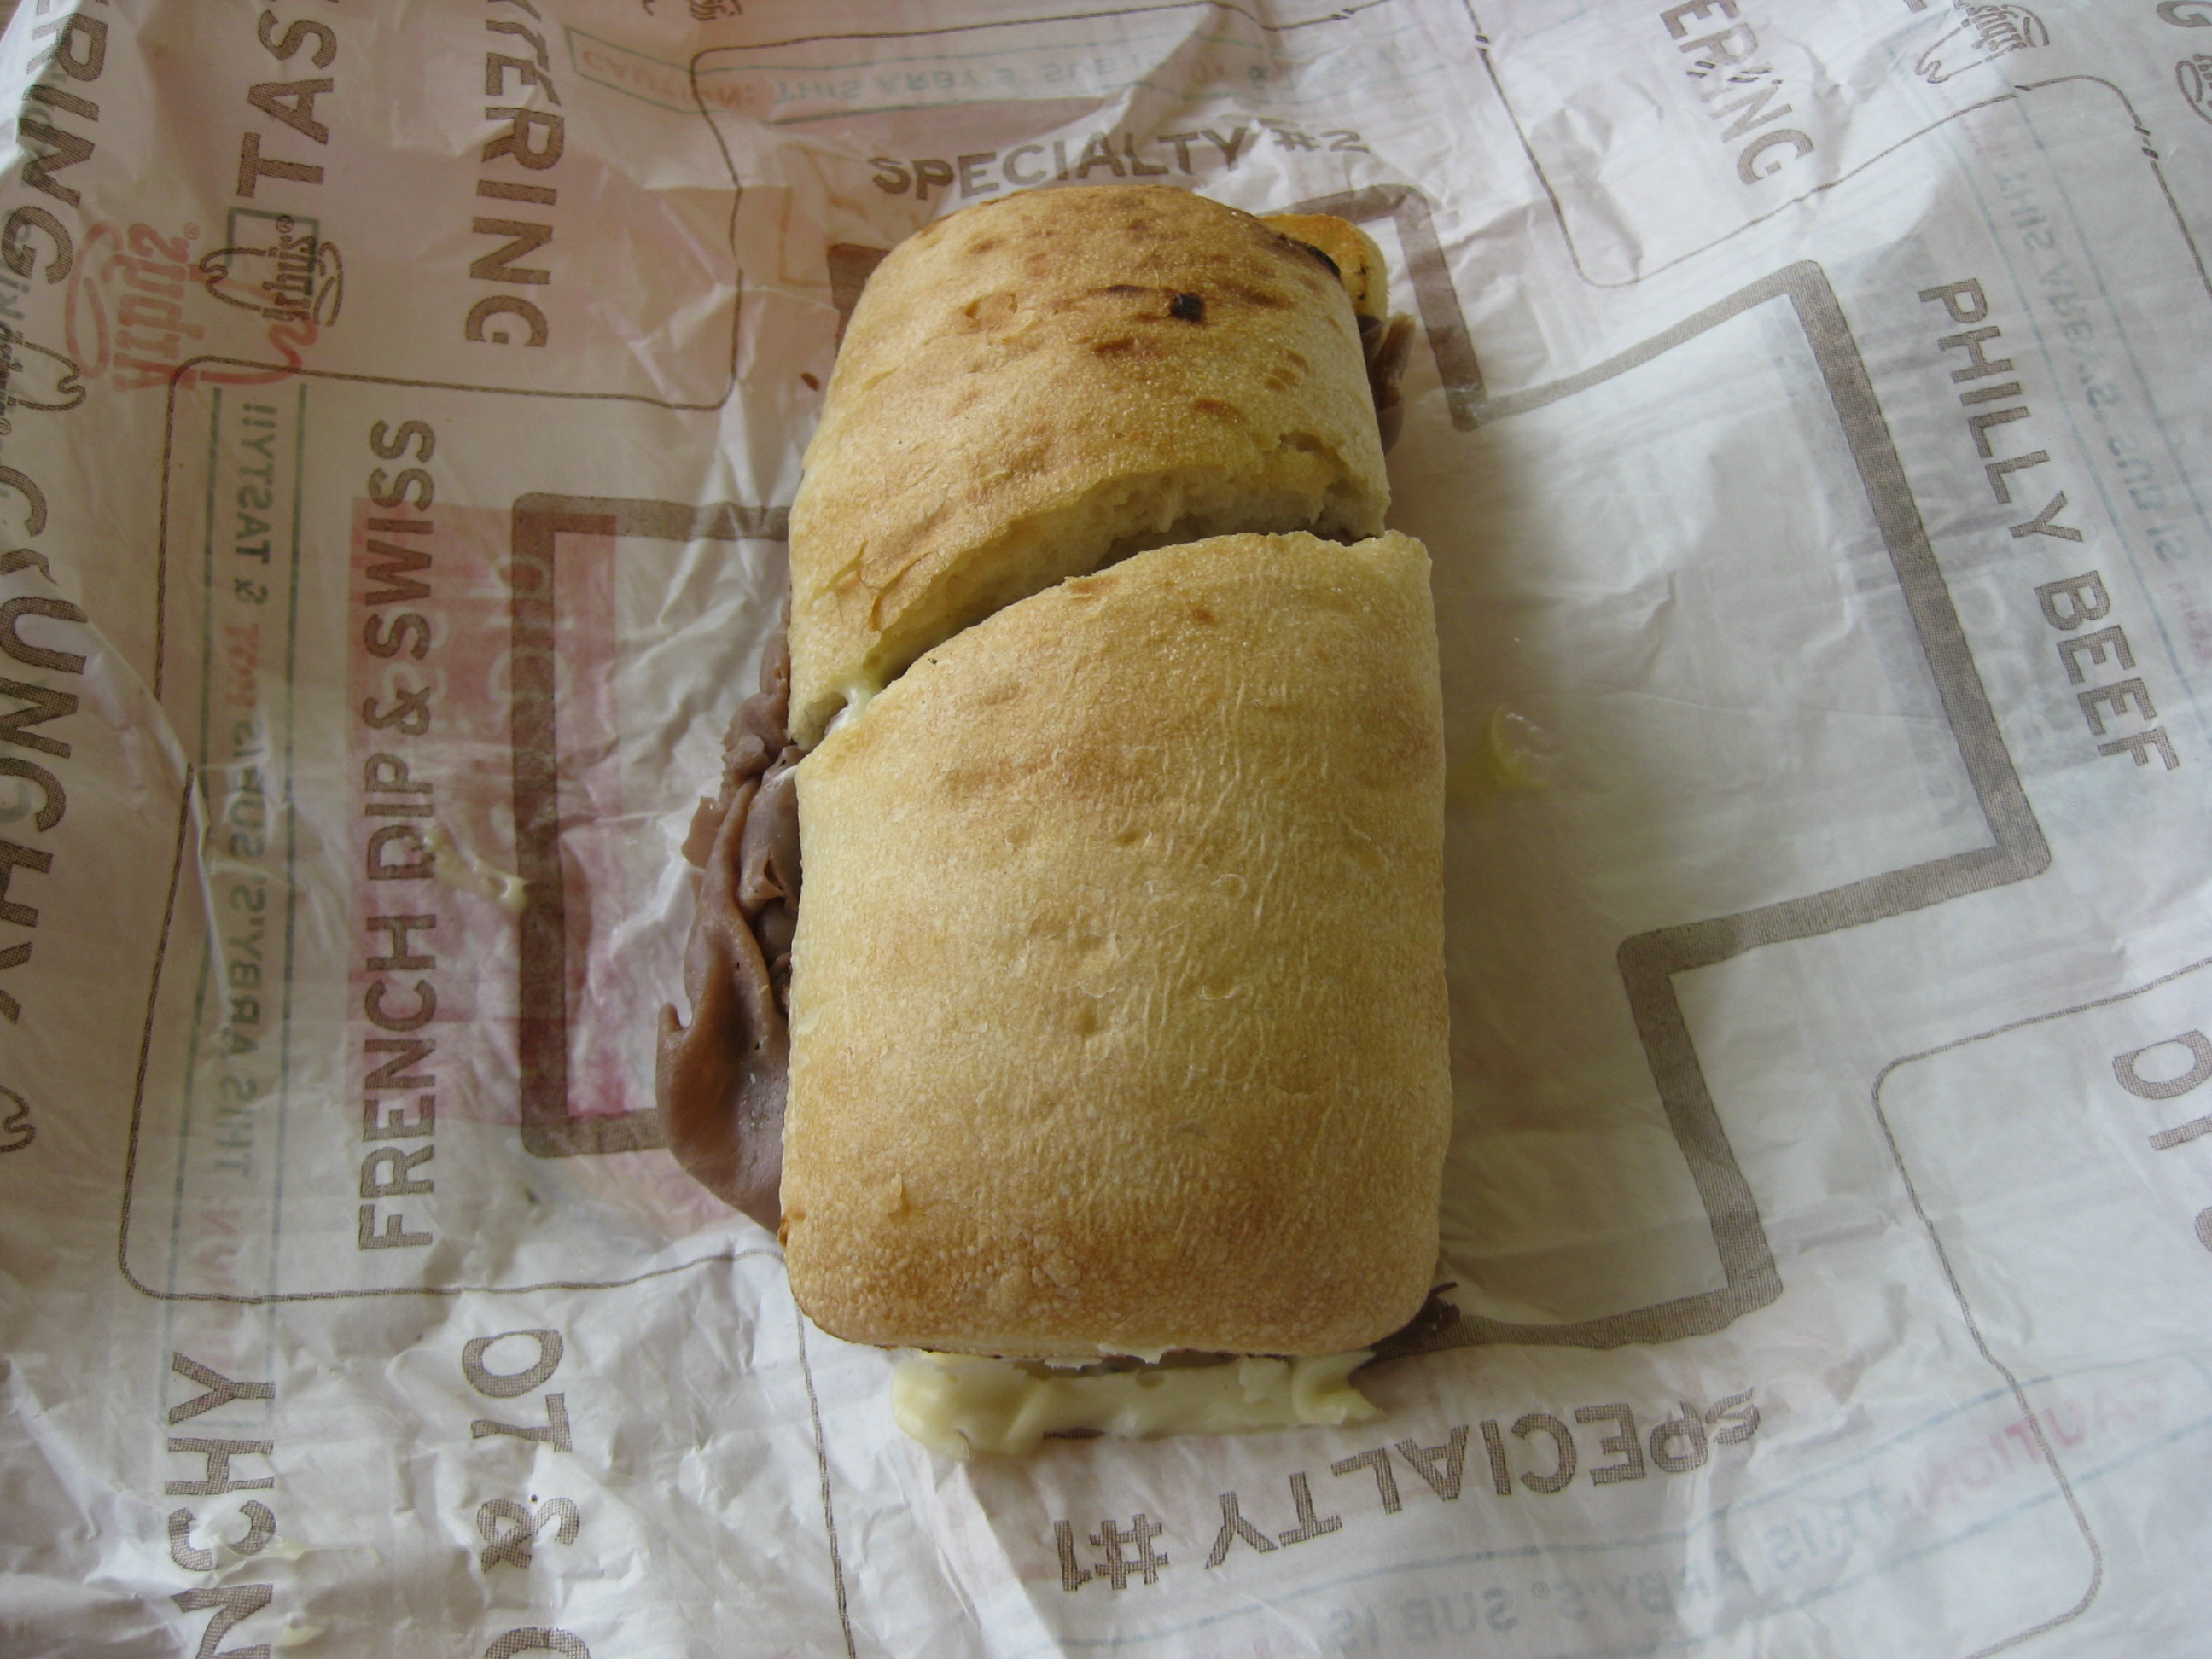sub: (714, 143, 1542, 1384)
